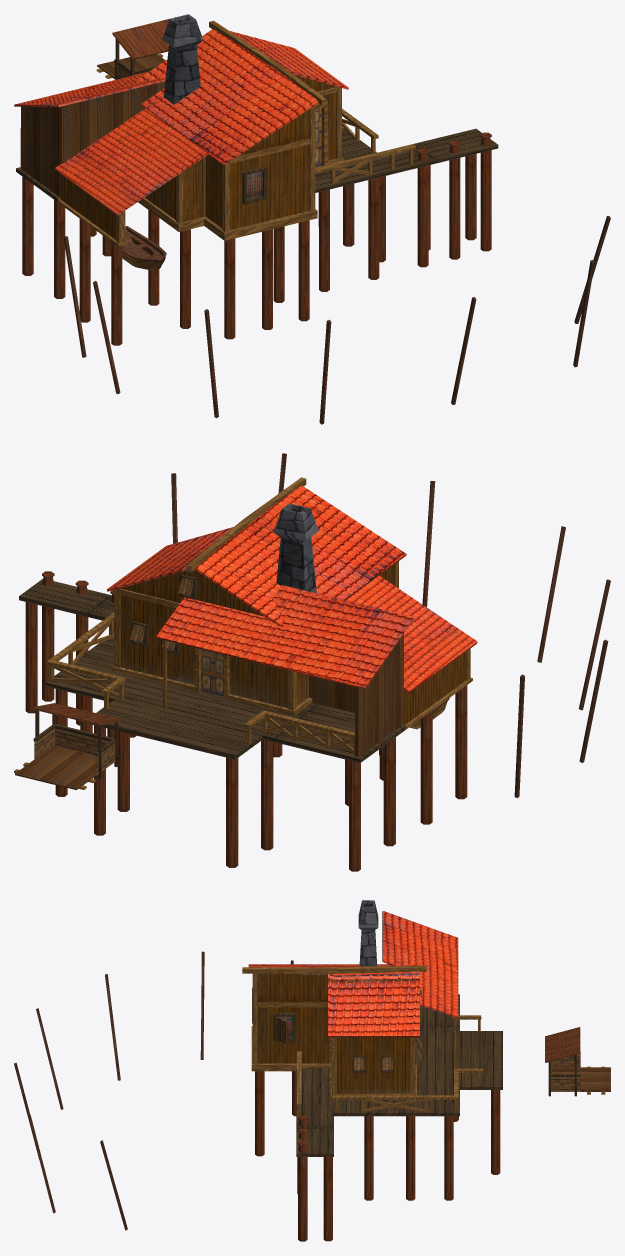
File: fishing_club.glb
The picture shows the model from 3 angles, top to bottom: view 1: azimuth 30°, elevation 25°; view 2: azimuth 150°, elevation 25°; view 3: azimuth 270°, elevation 25°; orthographic projection. The views are drawn at different scales.
Visible parts, largest first — view 1: fishing_club_2.001; view 2: fishing_club_2.001; view 3: fishing_club_2.001.
Boxes of the visible parts, x1,y1,x2,y2 form: fishing_club_2.001: (14, 14, 610, 424); fishing_club_2.001: (14, 453, 610, 871); fishing_club_2.001: (14, 900, 610, 1241).
Size of the model in its own units: 5.79 by 3.22 by 7.68.
Materials: 1 (1 with a texture image).
